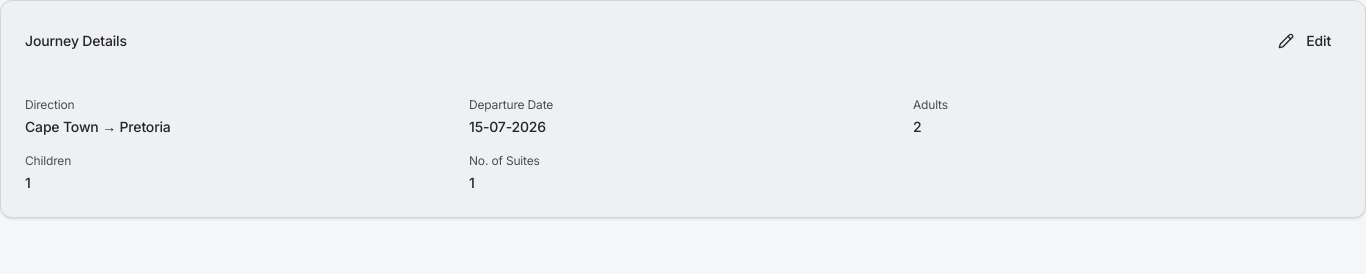
Test: EnquiryParsedFieldsEditor › switches to edit mode when Edit is clicked
Click the button with aria-label "edit journey details".
click(1305, 41)  # box [1268,25,1341,57]
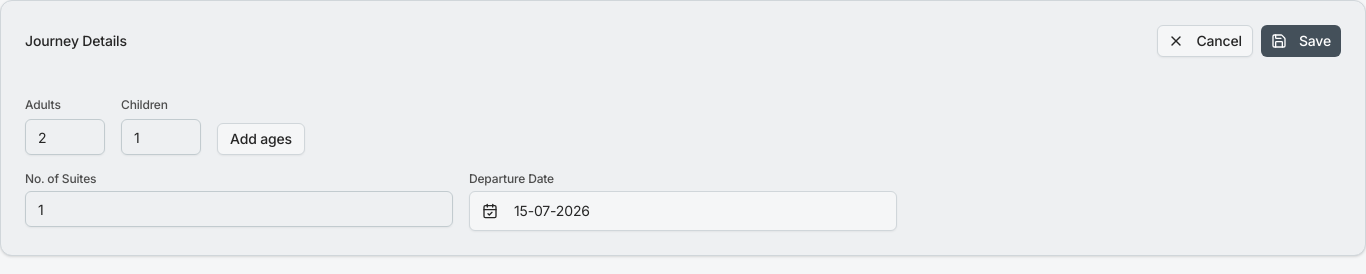
Now the number field labelled "Adults" is shown, box [25,119,105,155]
Now the number field labelled "Children" is shown, box [121,119,201,155]
Now the number field labelled "No. of Suites" is shown, box [25,191,453,227]
